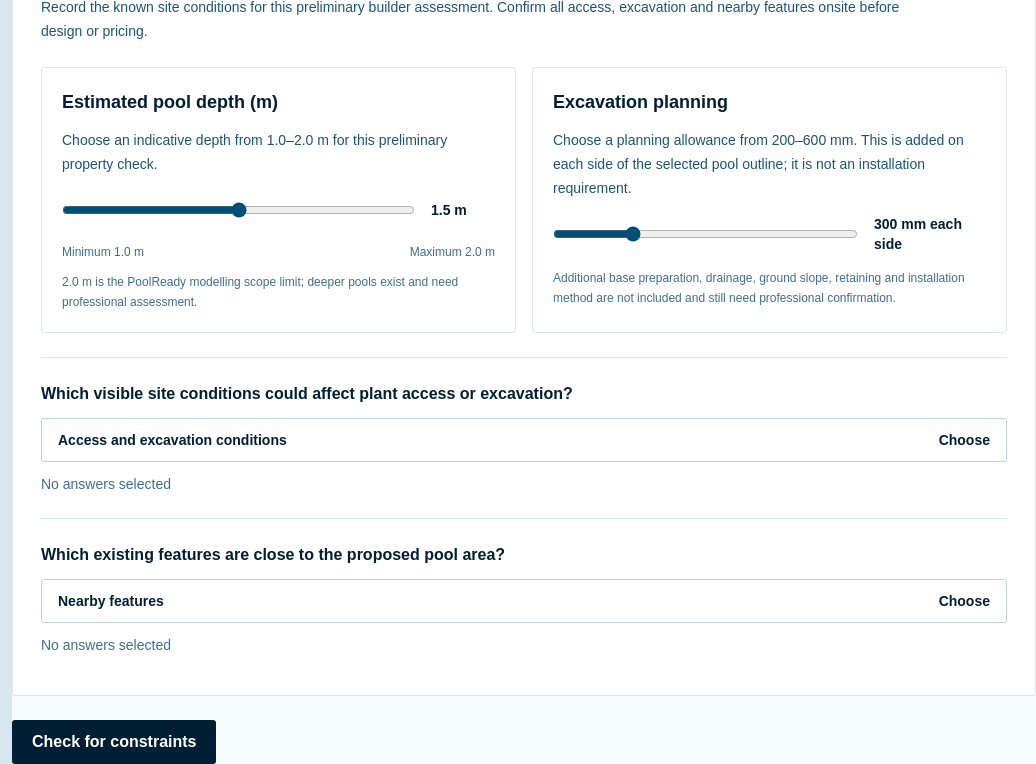
Test case: Pool builder site questions › requires both observed-condition answers and preserves them after failure
(page scrolled)
Click the button "Check for constraints": [114, 742] box 12,720 -> 216,763
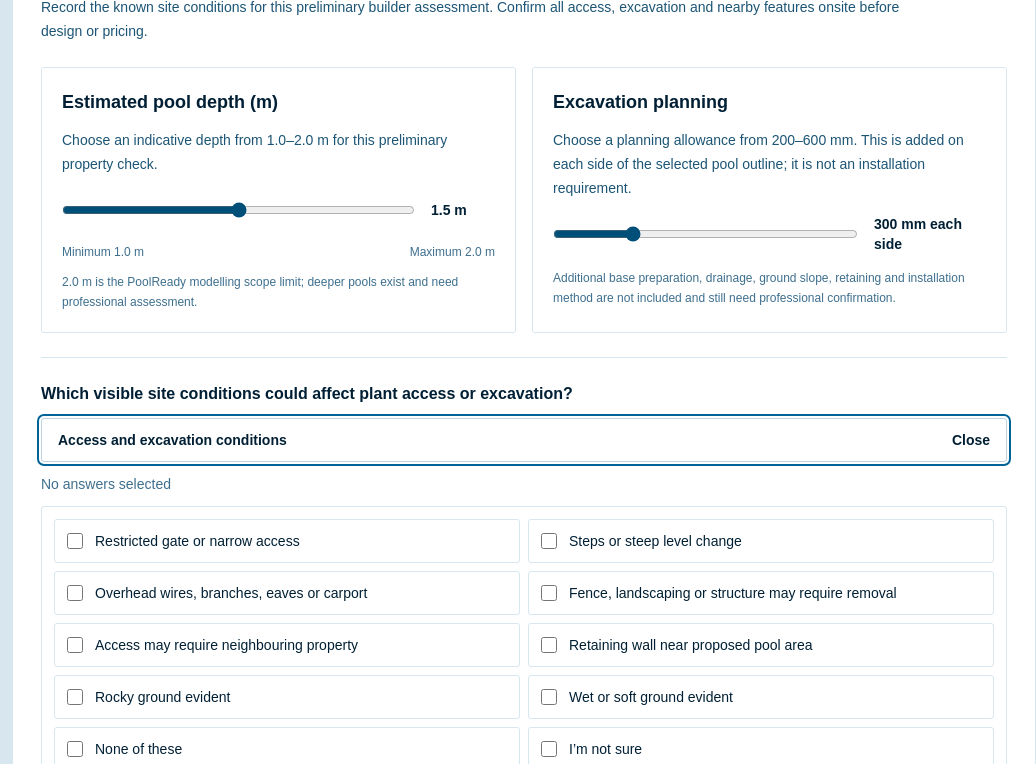
Click the checkbox labelled "None of these": [75, 749] box 67,741 -> 83,757
(page scrolled)
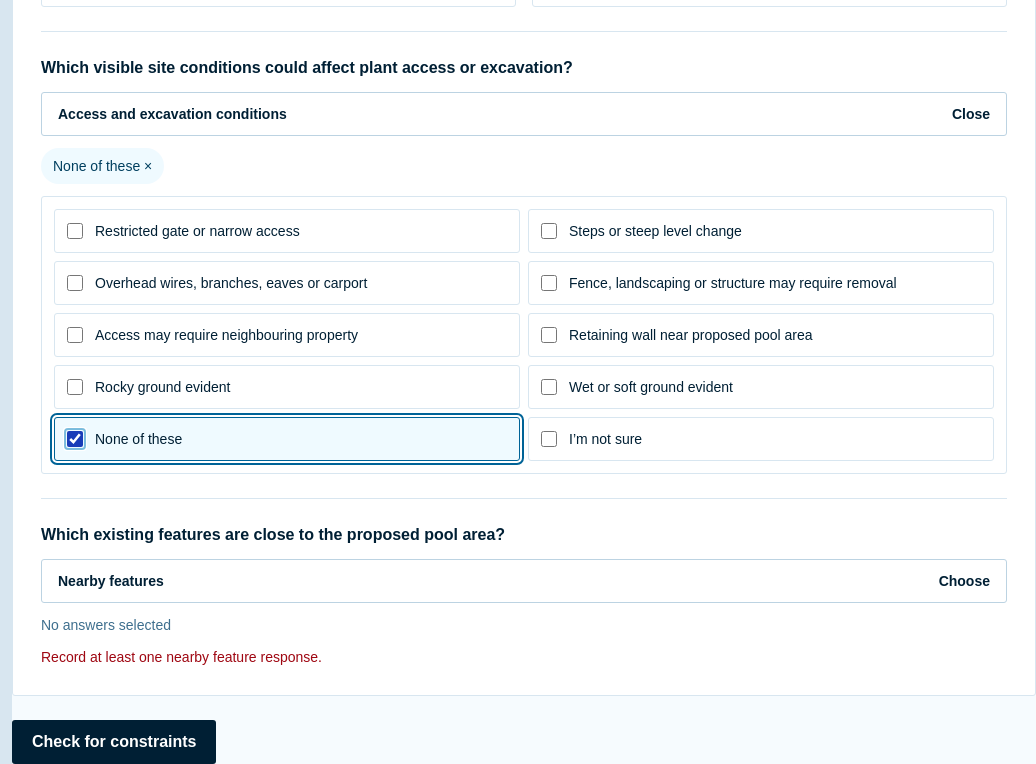
Click the button "Nearby features Choose": [111, 581] box 41,559 -> 1007,603
(page scrolled)
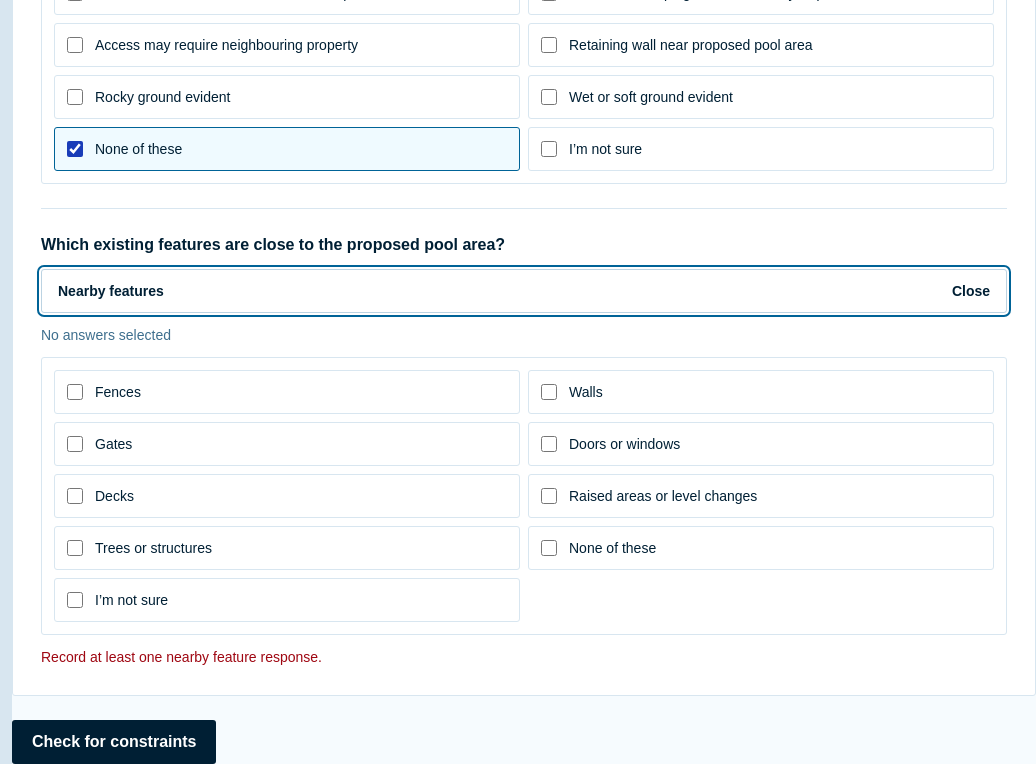
Click the checkbox labelled "None of these" in the row of "Trees or structures": [549, 548] box 541,540 -> 557,556
(page scrolled)
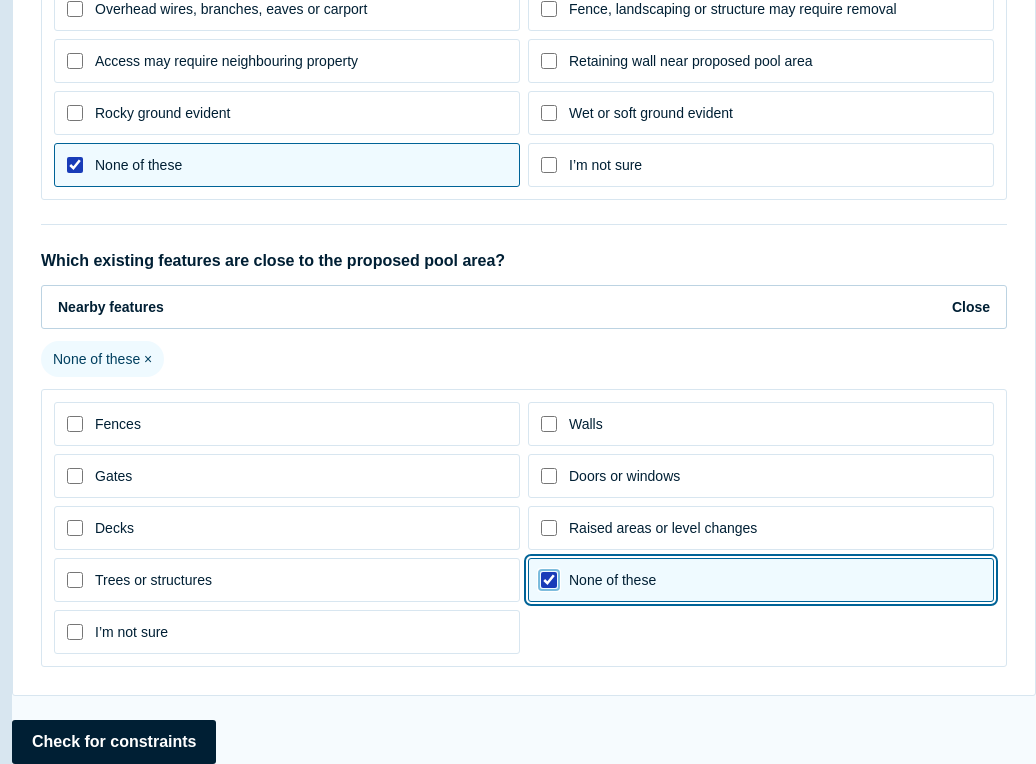
Click the button "Check for constraints": [114, 742] box 12,720 -> 216,763
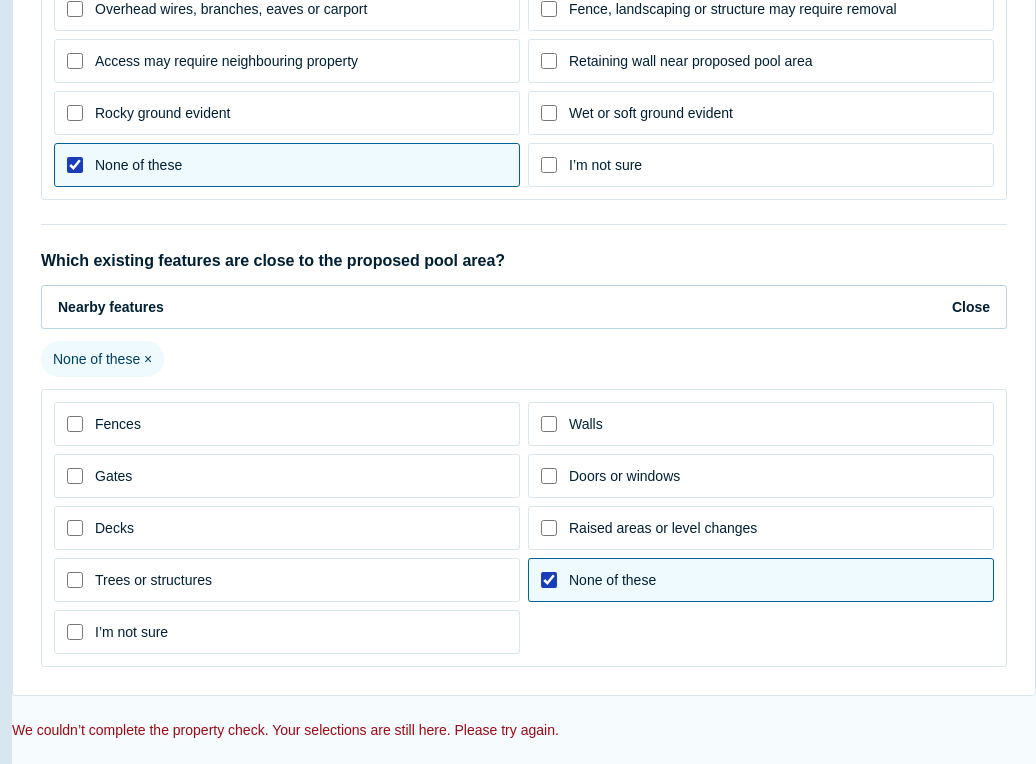
Check: the checkbox labelled "None of these" below "Rocky ground evident" is checked, box 67,157 -> 83,173
Check: the checkbox labelled "None of these" in the row of "Trees or structures" is checked, box 541,572 -> 557,588
Check: the text "couldn’t complete the property check" is shown, box 12,722 -> 559,738
